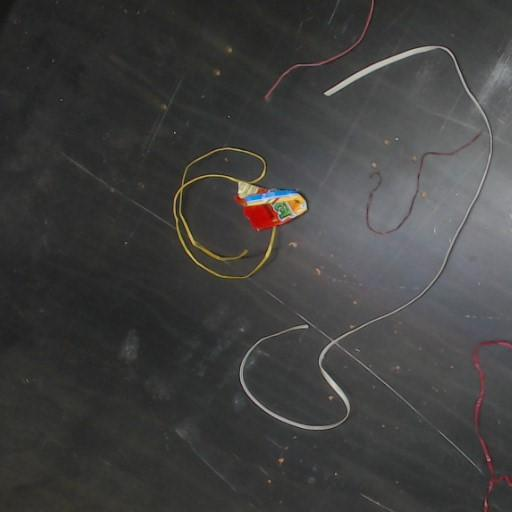conveyor belt: (0, 0, 511, 511), (480, 347, 511, 475)
packet: (236, 182, 307, 230)
thread: (240, 45, 492, 430), (172, 147, 276, 279), (365, 131, 481, 234), (264, 0, 374, 101), (172, 148, 255, 279), (473, 340, 511, 511), (408, 152, 448, 214), (365, 200, 407, 234), (245, 192, 274, 205)
